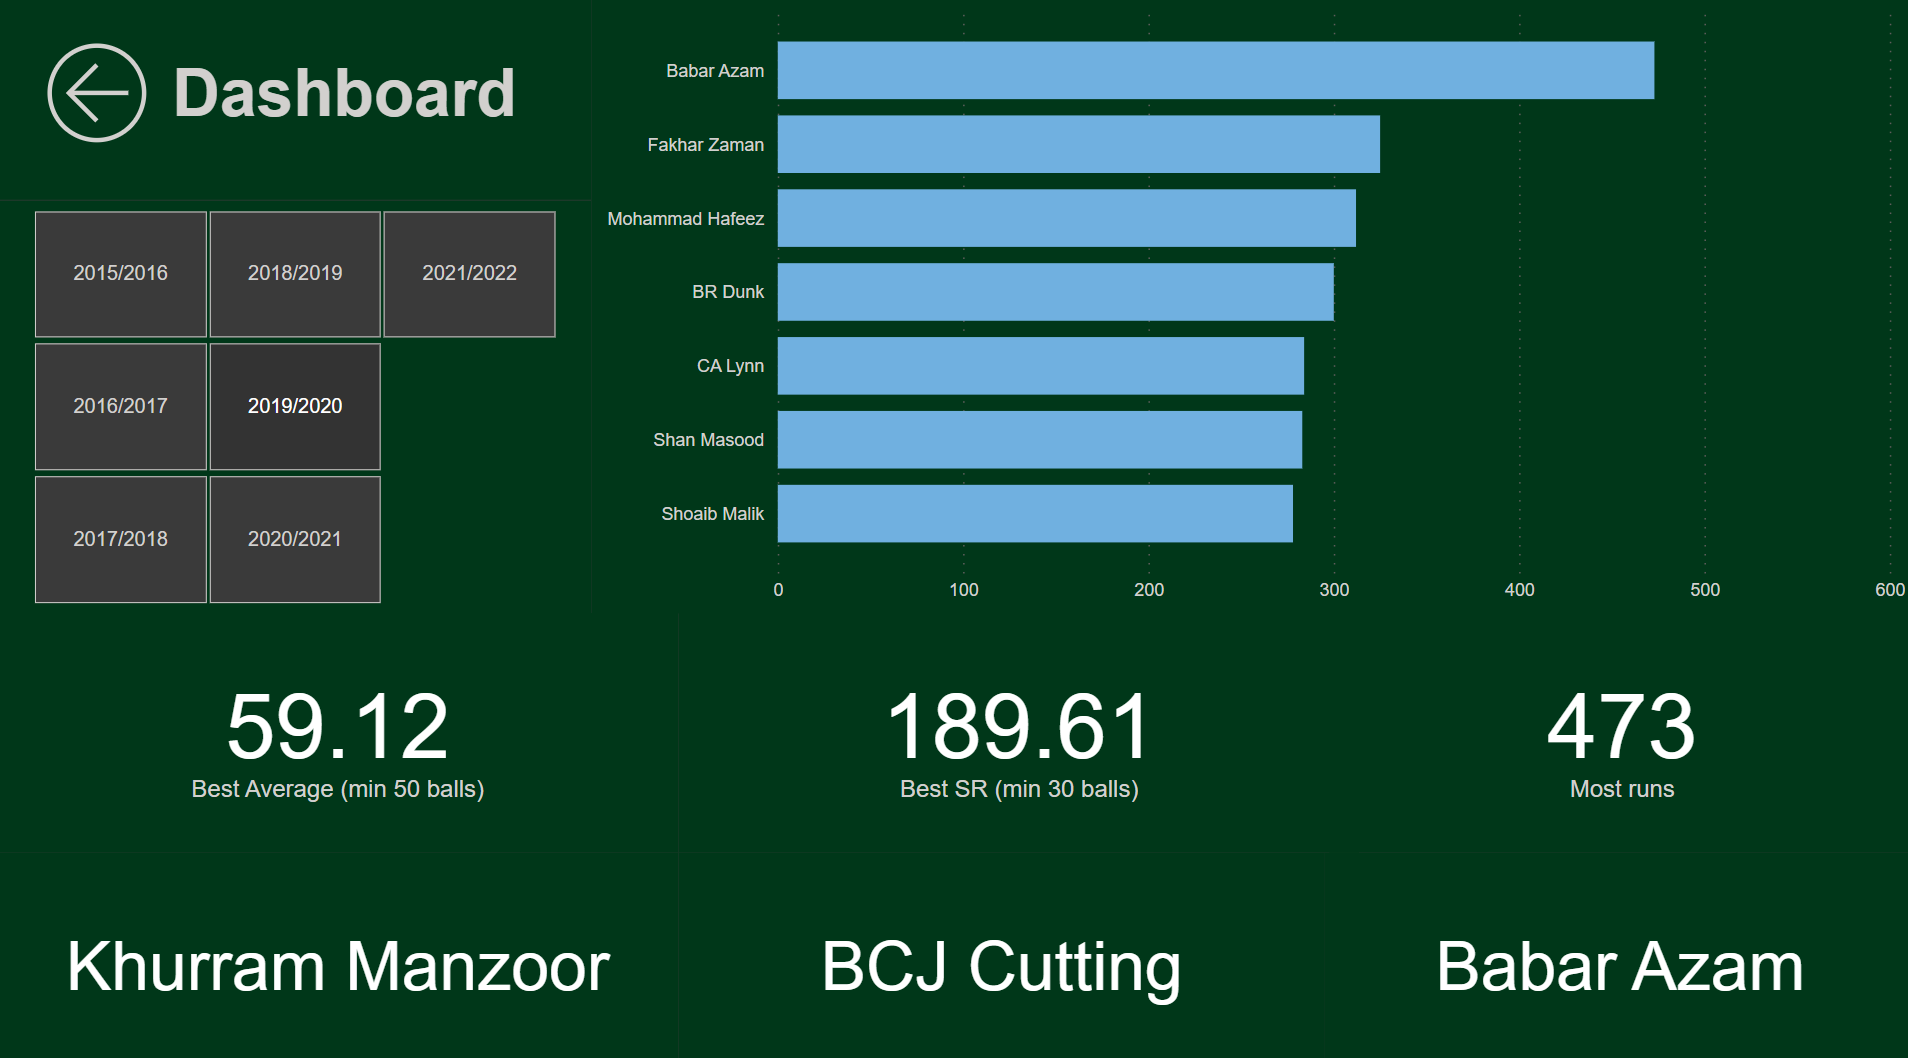

This screenshot's page, from the dashboard's own definition file:
{"tool":"powerbi","page":{"name":"Batting by Season","canvas":[1280,720],"ordinal":3},"visuals":[{"type":"clusteredBarChart","title":"Top Scorers","fields":{"Category":["batting.name"],"Y":["batting.runs"]},"box":[397.4,0,882.3,414.9],"z":0},{"type":"slicer","fields":{"Values":["bowling.season"]},"box":[0,138.9,397.4,276],"z":1000},{"type":"card","fields":{"Values":["_Calculations.BestPerson"]},"box":[886.4,574.7,394,144.8],"z":2000},{"type":"card","fields":{"Values":["_Calculations.Most runs"]},"box":[889.9,414.8,390.5,159.9],"z":3000},{"type":"card","fields":{"Values":["_Calculations.Best SR holder"]},"box":[455.4,574.7,431,144.8],"z":4000},{"type":"card","fields":{"Values":["_Calculations.Best SR"]},"box":[455.4,414.8,454.2,159.9],"z":5000},{"type":"card","fields":{"Values":["_Calculations.Best Average (min 50 balls)"]},"box":[0,414.8,455.4,159.9],"z":6000},{"type":"card","fields":{"Values":["_Calculations.Best Avg Holder"]},"box":[0,574.7,455.4,144.8],"z":7000},{"type":"actionButton","box":[0,0,397.4,138.9],"z":8000}]}

Visuals, with their boxes in screenshot pixels (x1, y1, x2, y2), scaled from the page's 1280x720 canvas onto the 1908x1058 screenshot:
"Top Scorers" clusteredBarChart: 592,0,1907,610
slicer - bowling.season: 0,204,592,610
card - _Calculations.BestPerson: 1321,844,1907,1057
card - _Calculations.Most runs: 1327,610,1907,844
card - _Calculations.Best SR holder: 679,844,1321,1057
card - _Calculations.Best SR: 679,610,1356,844
card - _Calculations.Best Average (min 50 balls): 0,610,679,844
card - _Calculations.Best Avg Holder: 0,844,679,1057
actionButton: 0,0,592,204
